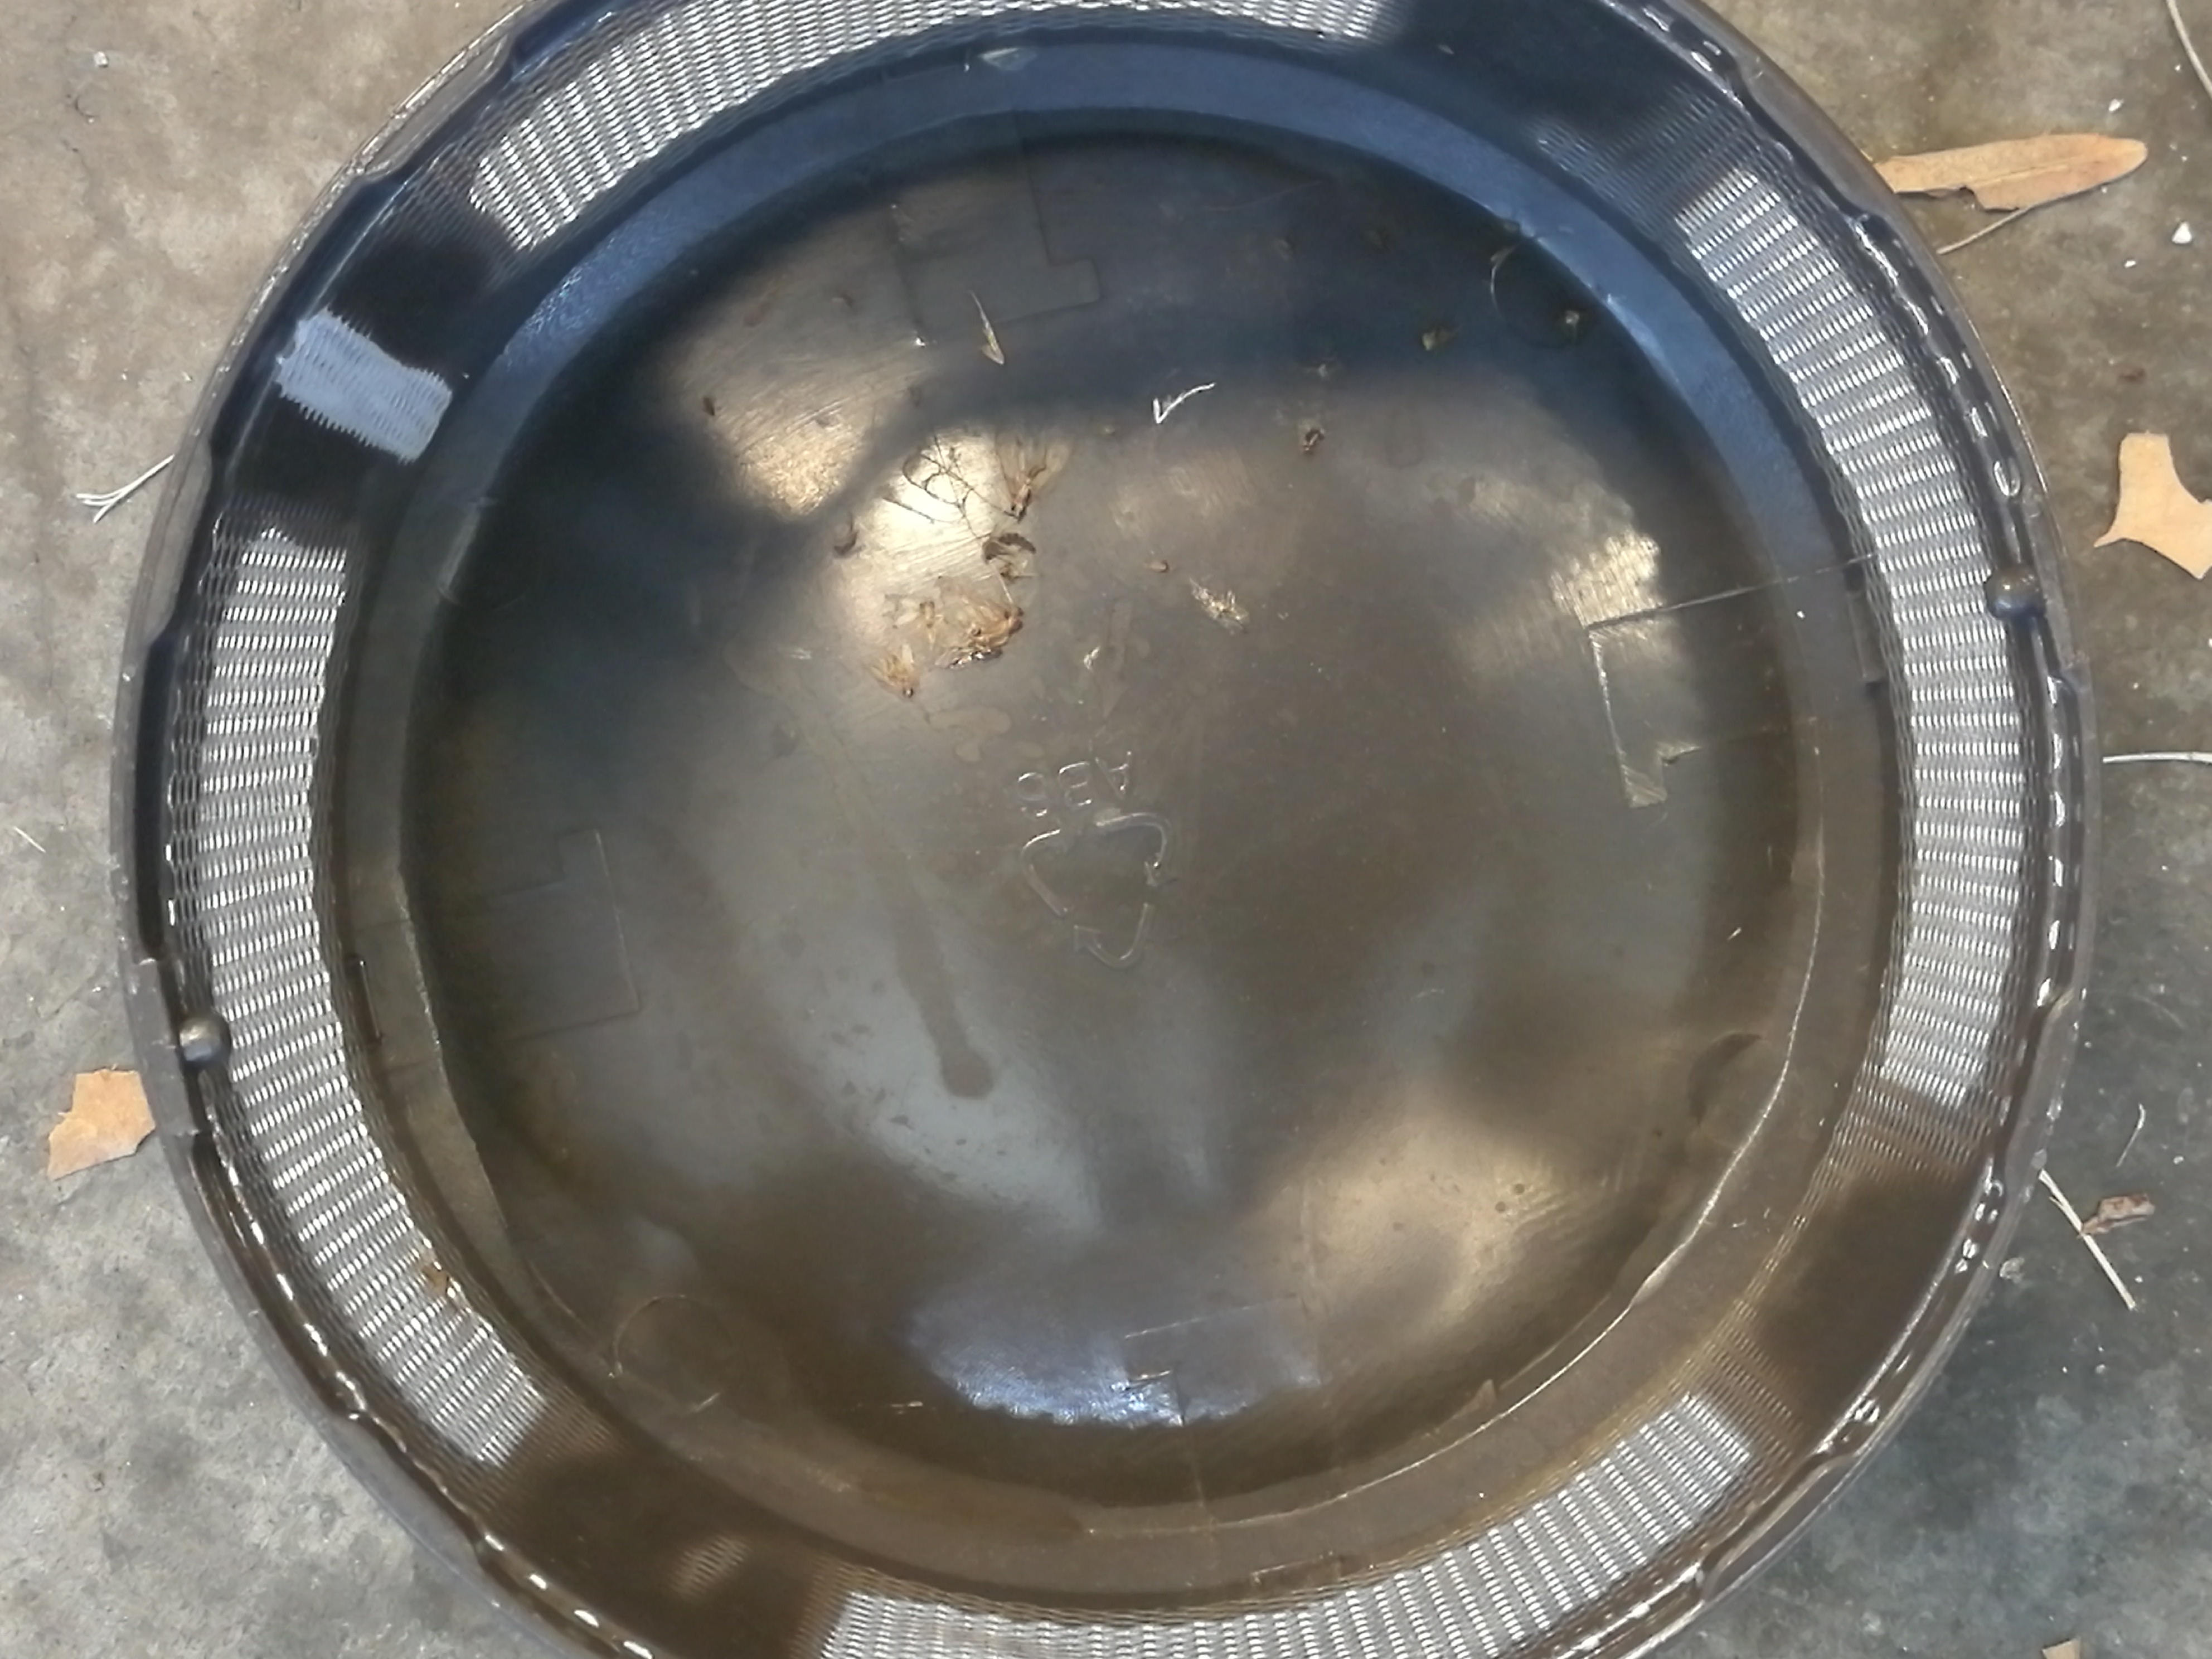mosquito: (970, 615, 1024, 648), (982, 533, 1035, 558), (935, 650, 995, 667)
moth: (1001, 443, 1064, 519), (873, 643, 913, 697)
